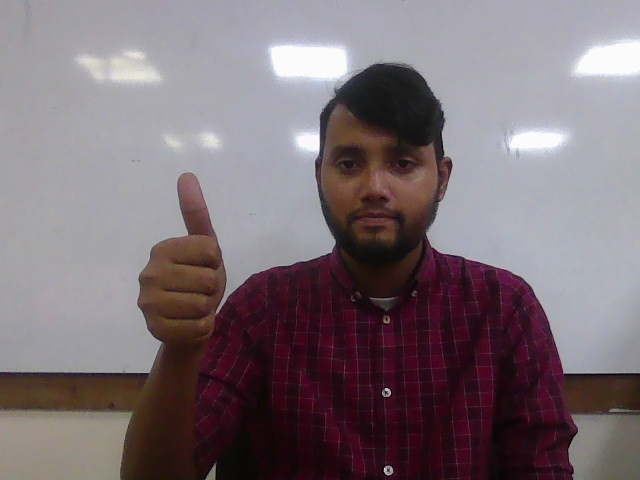Bhalo: (135, 169, 228, 352)
